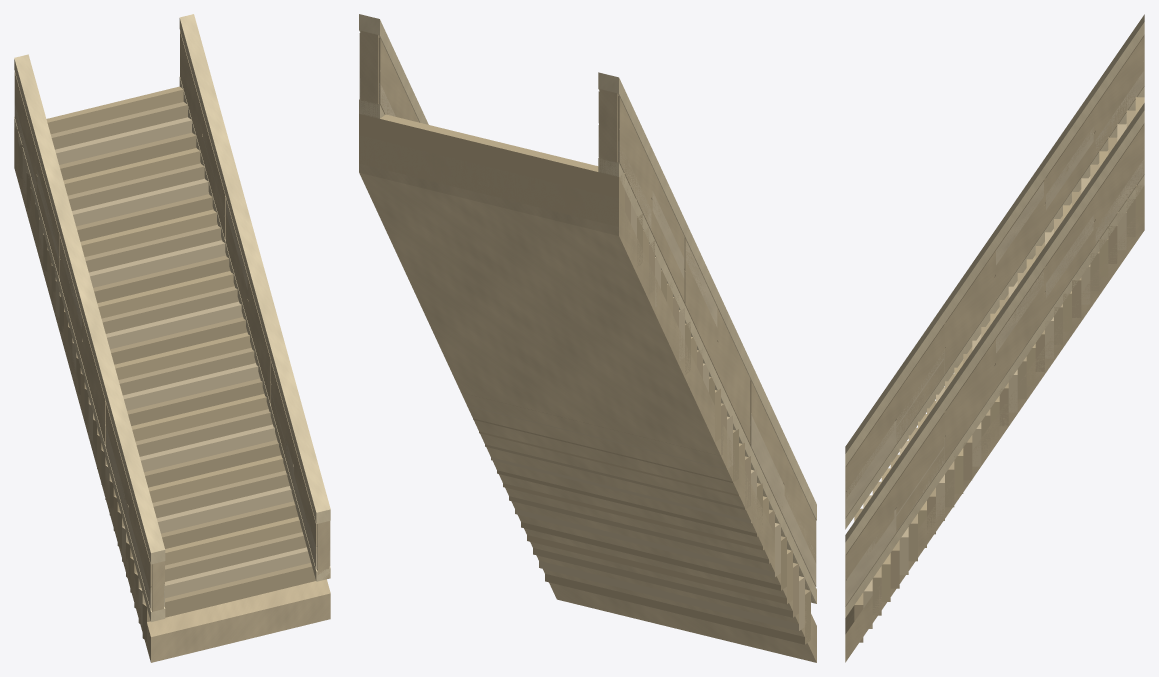
Rendered from verona_bridge_stairs.glb.
3 renders of one model, left to right at view 1: azimuth 30°, elevation 25°; view 2: azimuth 150°, elevation 25°; view 3: azimuth 270°, elevation 25°, orthographic. The views are drawn at different scales.
Parts seen in each view (by area): view 1: Paving_1.001, Paving_2.001, Paving_0.001, Paving_3.001, Limestone_trim.001, Travertine.001, Limestone_trim.002, Travertine.002, Limewash.001, Limewash.002; view 2: Travertine.001, Paving_0.001, Travertine.002, Paving_1.001, Limestone_trim.002, Paving_2.001, Limestone_trim.001, Paving_3.001, Limewash.001, Limewash.002; view 3: Travertine.001, Travertine.002, Limestone_trim.001, Limestone_trim.002, Limewash.001, Paving_3.001, Paving_0.001, Paving_2.001, Paving_1.001, Limewash.002.
Part boxes in pixels (box(x1,y1,x2,y2)): Paving_1.001: box(26, 132, 315, 640); Paving_2.001: box(22, 117, 310, 625); Paving_0.001: box(14, 86, 302, 592); Paving_3.001: box(18, 102, 306, 608); Limestone_trim.001: box(14, 15, 329, 621); Travertine.001: box(14, 54, 330, 662); Limestone_trim.002: box(14, 14, 330, 621); Travertine.002: box(14, 31, 330, 586); Limewash.001: box(14, 71, 330, 608); Limewash.002: box(105, 384, 330, 609); Travertine.001: box(359, 31, 816, 662); Paving_0.001: box(359, 114, 792, 604); Travertine.002: box(359, 33, 816, 552); Paving_1.001: box(473, 213, 810, 644); Limestone_trim.002: box(359, 14, 816, 603); Paving_2.001: box(467, 199, 804, 631); Limestone_trim.001: box(360, 15, 816, 602); Paving_3.001: box(461, 186, 798, 617); Limewash.001: box(360, 78, 816, 585); Limewash.002: box(749, 414, 816, 586); Travertine.001: box(845, 34, 1144, 662); Travertine.002: box(846, 36, 1143, 578); Limestone_trim.001: box(846, 16, 1143, 605); Limestone_trim.002: box(845, 14, 1144, 617); Limewash.001: box(846, 71, 1143, 563); Paving_3.001: box(872, 110, 1135, 615); Paving_0.001: box(881, 97, 1144, 601); Paving_2.001: box(863, 124, 1126, 628); Paving_1.001: box(854, 137, 1117, 642); Limewash.002: box(846, 351, 944, 604).
Size of the model in its own units: 3 by 8.05 by 3.95.
7 materials, 3 textured.
